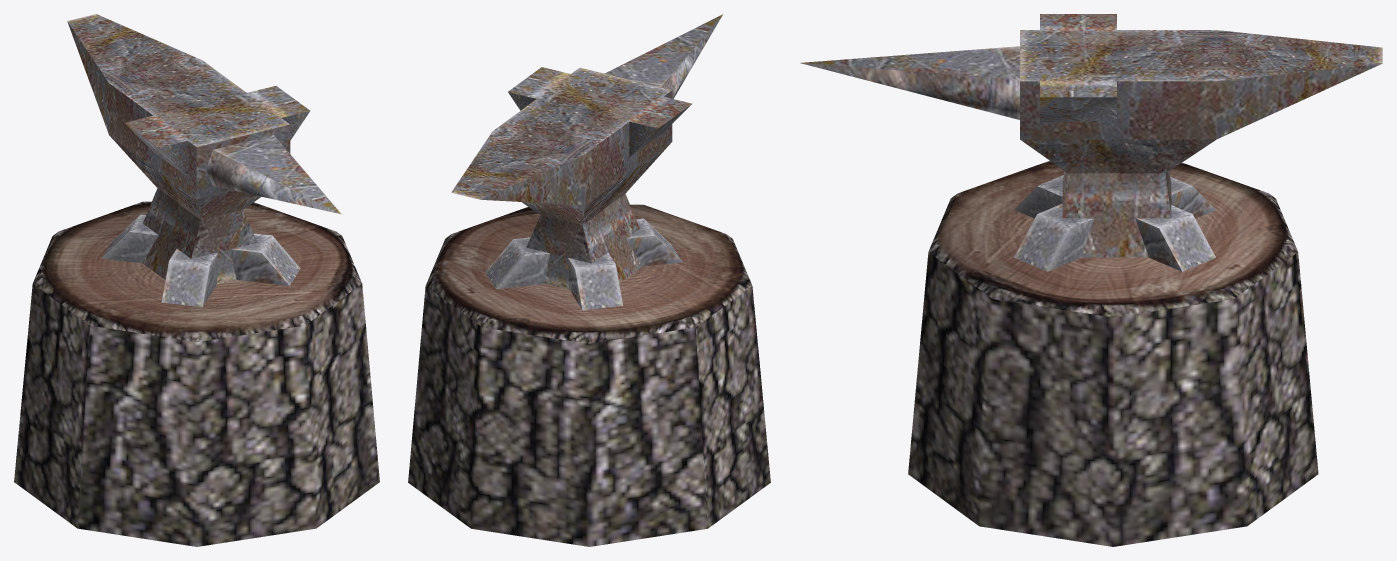
The model's file is Anvil_large.dae.
3 renders of one model, left to right at view 1: azimuth 30°, elevation 25°; view 2: azimuth 150°, elevation 25°; view 3: azimuth 270°, elevation 25°, orthographic. The views are drawn at different scales.
Parts seen in each view (by area): view 1: Anvil_large; view 2: Anvil_large; view 3: Anvil_large.
Part boxes in pixels (<box>): Anvil_large: <box>14,14,379,546</box>; Anvil_large: <box>408,14,770,546</box>; Anvil_large: <box>800,14,1382,546</box>.
Bounding box in the file's own units: 0.7247 × 0.803 × 1.05.
Materials: 1 (1 with a texture image).
